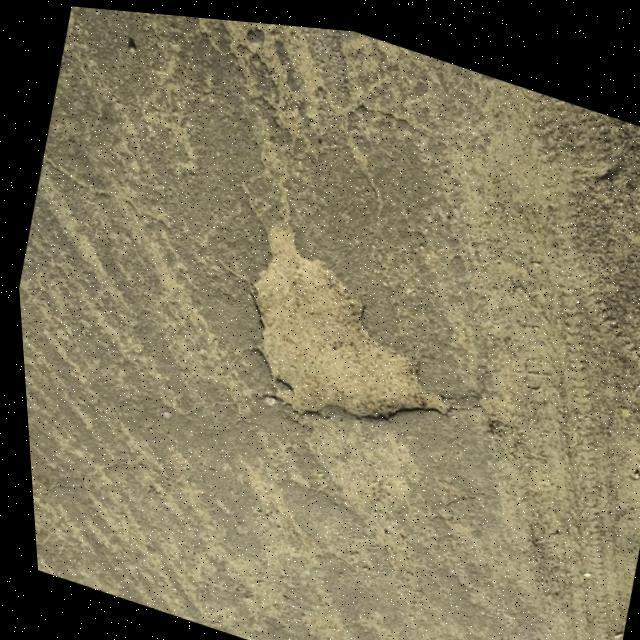pothole: (212, 206, 482, 463)
